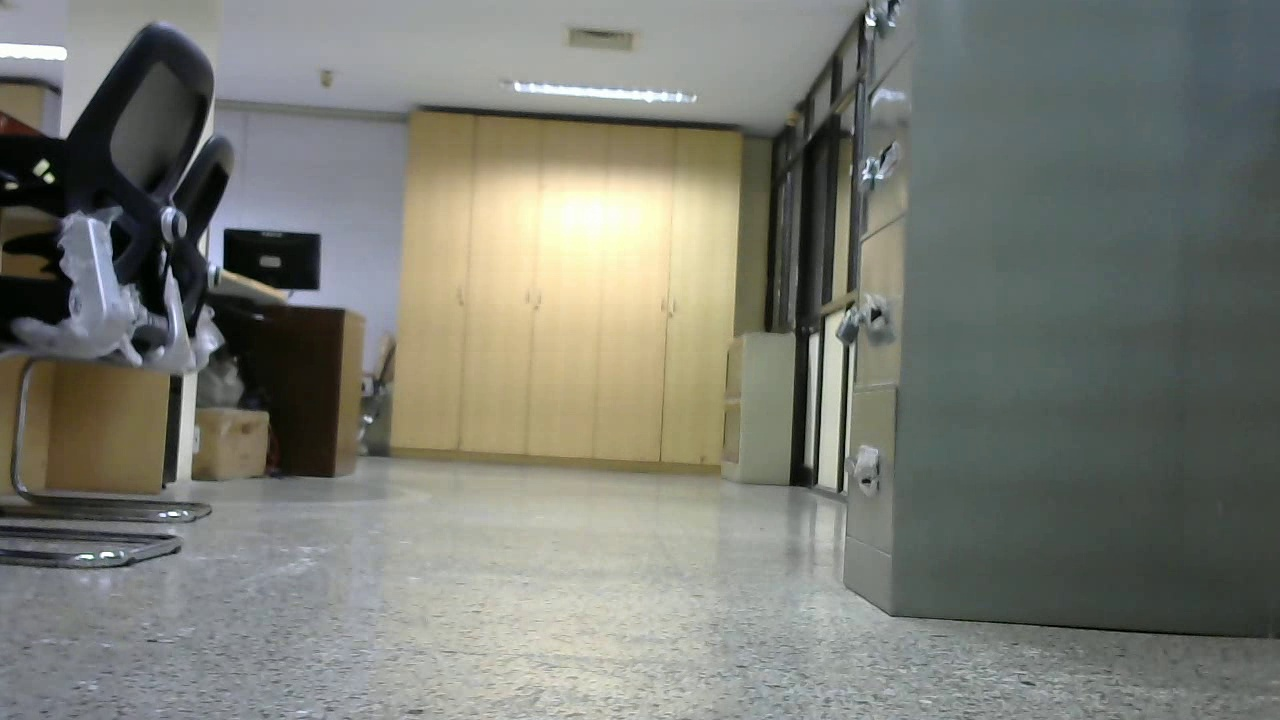chair: (1, 17, 205, 570)
